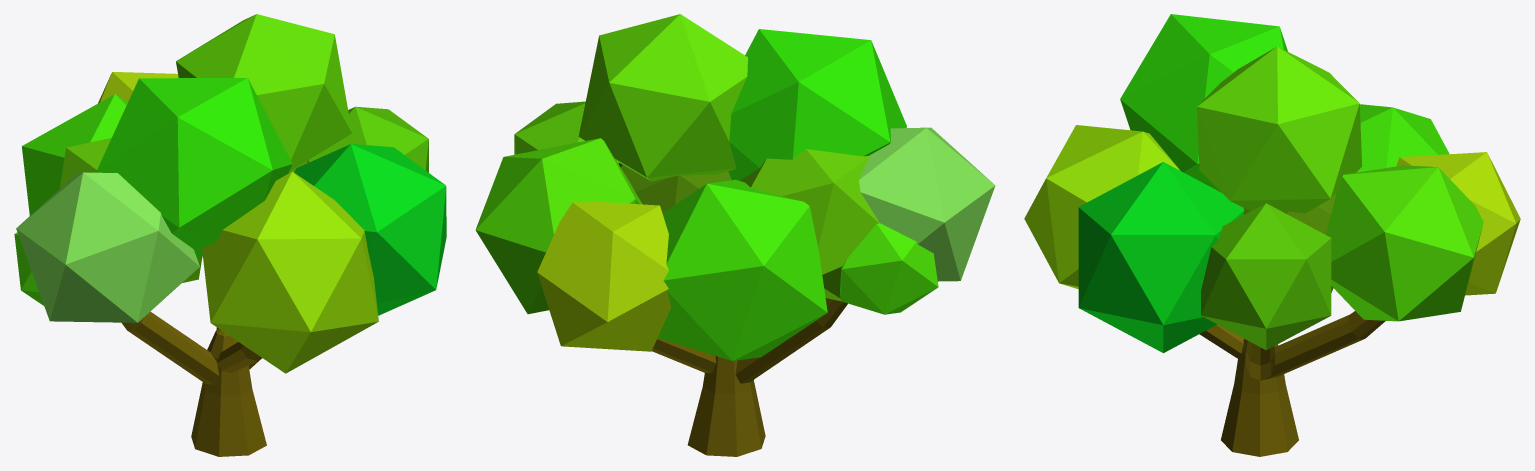
Rendered from bigTree.glb.
3 renders of one model, left to right at view 1: azimuth 30°, elevation 25°; view 2: azimuth 150°, elevation 25°; view 3: azimuth 270°, elevation 25°, orthographic. The views are drawn at different scales.
Parts seen in each view (by area): view 1: log; view 2: log; view 3: log.
Boxes of the visible parts, x1,y1,x2,y2 form: log: (14,14,446,456); log: (475,14,995,456); log: (1024,14,1520,456).
Bounding box in the file's own units: 10.55 × 10 × 10.93.
